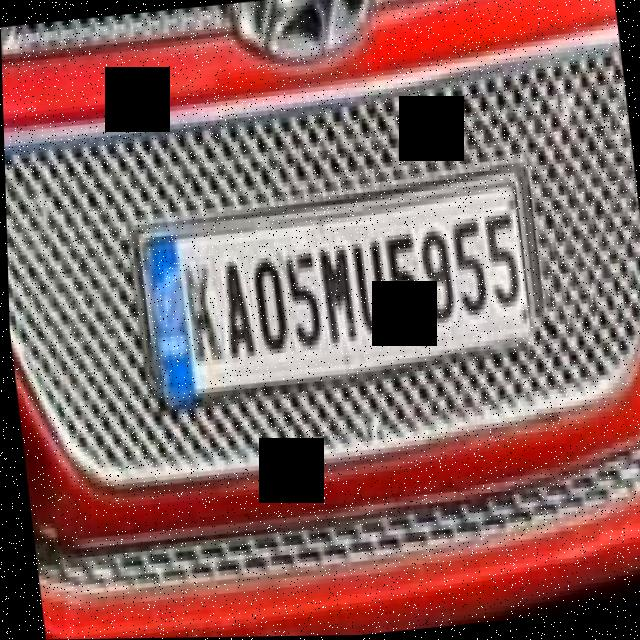0: (246, 253, 292, 356)
5: (278, 243, 326, 354), (378, 228, 423, 340), (447, 210, 491, 322), (479, 207, 525, 309)
A: (213, 256, 258, 363)
K: (176, 255, 224, 368)
M: (312, 234, 360, 348)
U: (347, 232, 391, 334)
